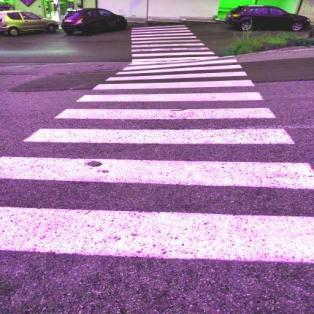Paso de Cebra: (17, 106, 299, 150), (88, 69, 257, 93), (127, 45, 218, 59)
